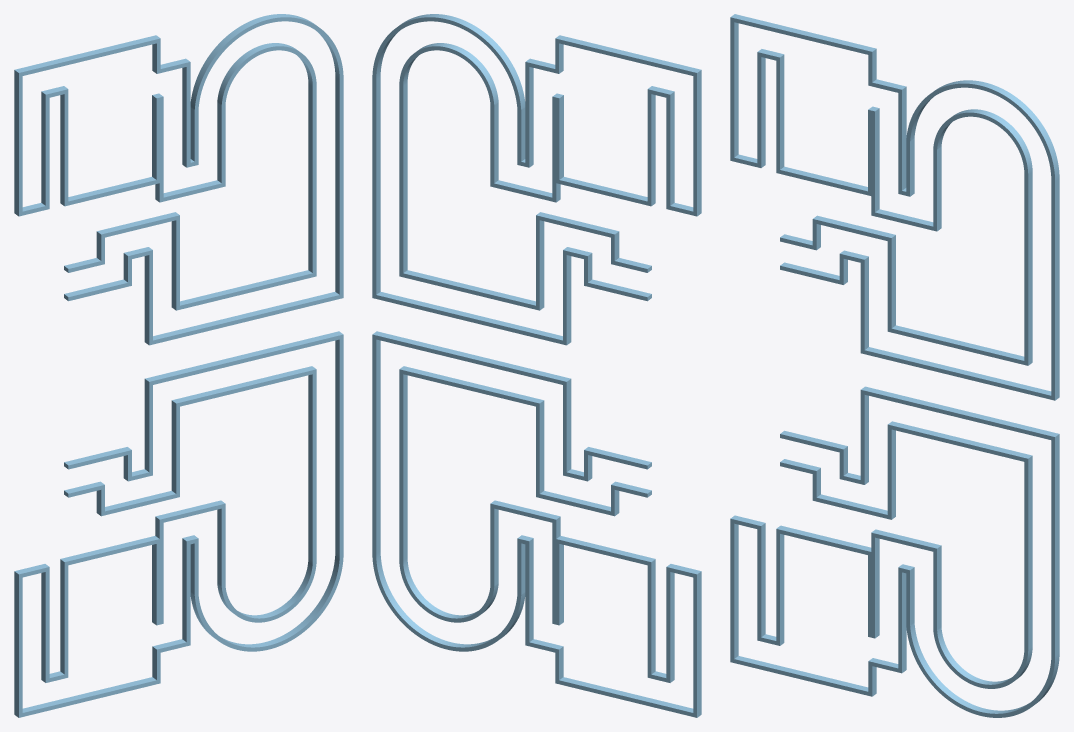
File: scale2.obj
The picture shows the model from 3 angles, left to right: view 1: azimuth 30°, elevation 25°; view 2: azimuth 150°, elevation 25°; view 3: azimuth 330°, elevation 25°; orthographic projection.
Visible parts, largest first — view 1: mesh59.001, mesh59, mesh9.001, mesh9, mesh62, mesh41.001, mesh41, mesh8.001, mesh58.001, mesh10, mesh51, mesh51.001 (+14 smaller); view 2: mesh60.001, mesh60, mesh9.001, mesh9, mesh62, mesh41.001, mesh41, mesh8.001, mesh58.001, mesh10, mesh51, mesh51.001 (+14 smaller); view 3: mesh59.001, mesh59, mesh61, mesh61.001, mesh62, mesh29.001, mesh29, mesh8.001, mesh58.001, mesh10, mesh52.001, mesh30 (+9 smaller).
Boxes of the visible parts, x1=… form: mesh59.001: x1=19, y1=17, x2=343, y2=345; mesh59: x1=19, y1=334, x2=343, y2=717; mesh9.001: x1=335, y1=77, x2=339, y2=294; mesh9: x1=335, y1=339, x2=339, y2=553; mesh62: x1=145, y1=331, x2=343, y2=381; mesh41.001: x1=308, y1=83, x2=312, y2=272; mesh41: x1=308, y1=374, x2=312, y2=560; mesh8.001: x1=153, y1=292, x2=339, y2=340; mesh58.001: x1=190, y1=14, x2=316, y2=109; mesh10: x1=221, y1=551, x2=339, y2=647; mesh51: x1=14, y1=571, x2=18, y2=717; mesh51.001: x1=14, y1=70, x2=18, y2=216; mesh60.001: x1=372, y1=17, x2=696, y2=345; mesh60: x1=372, y1=334, x2=696, y2=717; mesh9.001: x1=376, y1=77, x2=380, y2=294; mesh9: x1=376, y1=339, x2=380, y2=553; mesh62: x1=372, y1=331, x2=570, y2=381; mesh41.001: x1=403, y1=83, x2=407, y2=272; mesh41: x1=403, y1=374, x2=407, y2=560; mesh8.001: x1=376, y1=292, x2=562, y2=340; mesh58.001: x1=399, y1=14, x2=525, y2=109; mesh10: x1=376, y1=551, x2=494, y2=647; mesh51: x1=697, y1=571, x2=701, y2=717; mesh51.001: x1=697, y1=70, x2=701, y2=216; mesh59.001: x1=730, y1=17, x2=1054, y2=400; mesh59: x1=730, y1=390, x2=1054, y2=717; mesh61: x1=1055, y1=434, x2=1059, y2=655; mesh61.001: x1=1055, y1=179, x2=1059, y2=400; mesh62: x1=861, y1=386, x2=1058, y2=436; mesh29.001: x1=1028, y1=172, x2=1032, y2=365; mesh29: x1=1028, y1=456, x2=1032, y2=648; mesh8.001: x1=865, y1=347, x2=1051, y2=395; mesh58.001: x1=933, y1=80, x2=1059, y2=181; mesh10: x1=910, y1=623, x2=1029, y2=713; mesh52.001: x1=731, y1=14, x2=876, y2=51; mesh30: x1=888, y1=421, x2=1032, y2=458.
Bounding box in the file's own units: 8.43 × 16 × 0.2.
